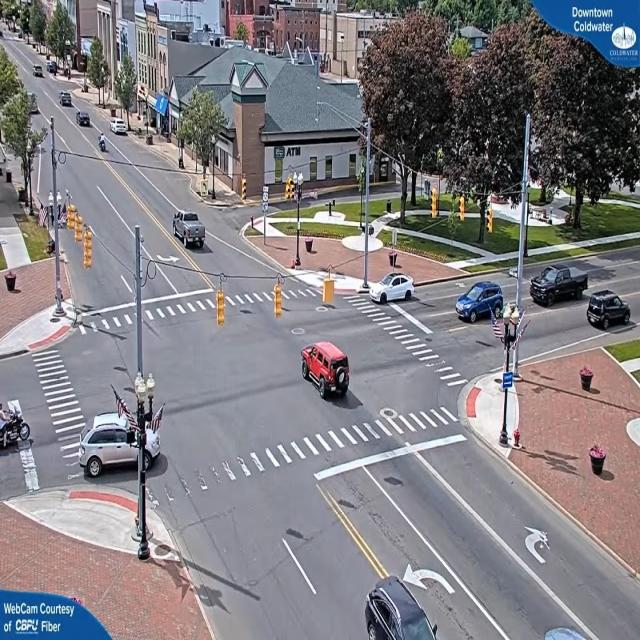car: (300, 343, 351, 400), (530, 266, 588, 308), (457, 283, 504, 323), (586, 292, 631, 331), (370, 272, 416, 303), (172, 211, 208, 249), (112, 120, 128, 136)
motorbike: (0, 406, 31, 450)
truck: (78, 426, 165, 478)
